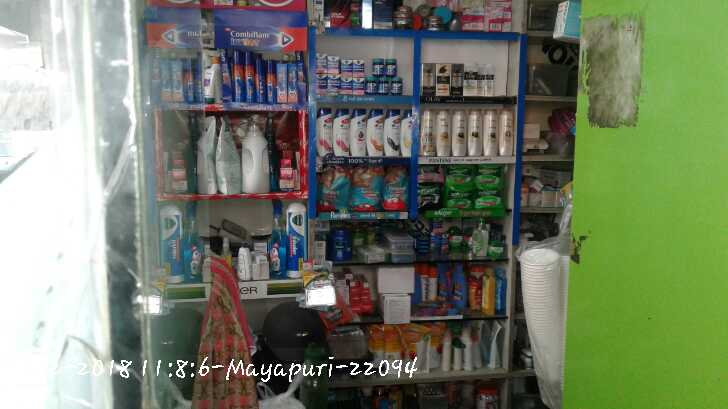vicks: (315, 51, 405, 96), (160, 203, 183, 282), (286, 202, 307, 279)
